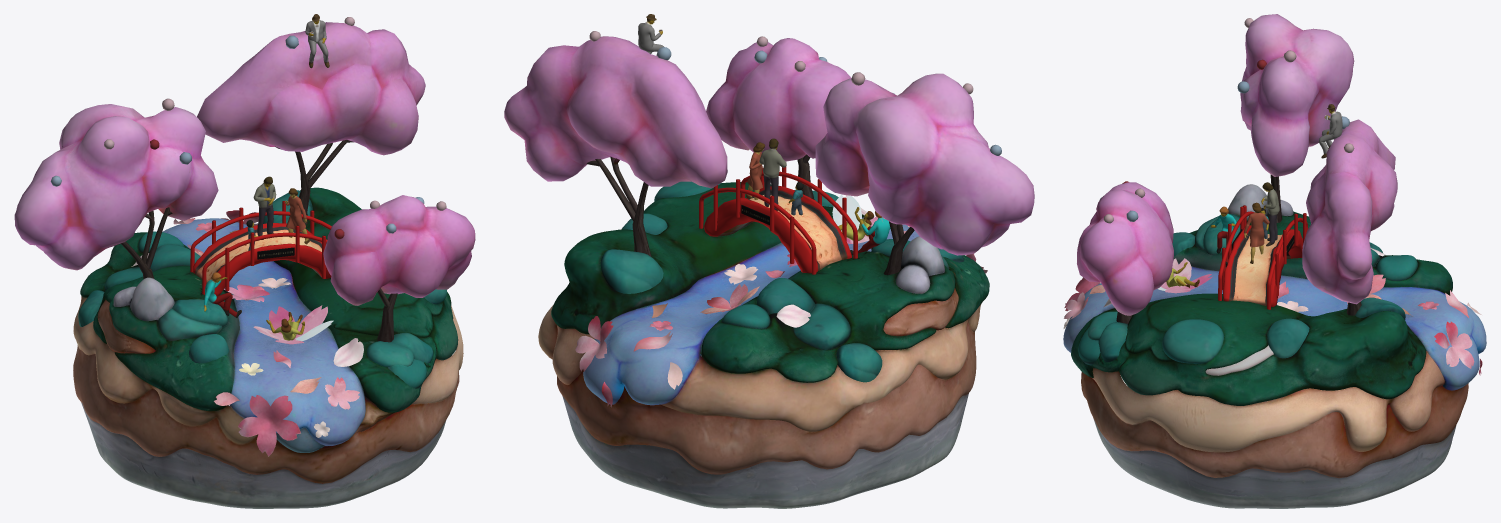
The model's file is rivermove1.glb.
3 views of the same model, side by side, from view 1: azimuth 30°, elevation 25°; view 2: azimuth 150°, elevation 25°; view 3: azimuth 270°, elevation 25° (orthographic). The views are drawn at different scales.
Parts seen in each view (by area): view 1: ground, sakuraA (×2), sakuraB, sakuraC (×2), river, bridge_base, Group2 (×2), rock1, polySurface106, polySurface101, polySurface124, polySurface122 (+11 smaller); view 2: ground, sakuraB, sakuraA, river, sakuraC, bridge_base, polySurface112, polySurface114, polySurface123, polySurface113, Group2 (×2), rock1 (+8 smaller); view 3: ground, sakuraB, sakuraA, sakuraC, river, bridge_base, polySurface115, polySurface110, Group2 (×2), sakuraAA, polySurface104, polySurface125 (+6 smaller).
Boxes of the visible parts, bbox=[...] form: ground: bbox=[73, 187, 463, 508]; sakuraA (×2): bbox=[197, 22, 425, 409]; sakuraB: bbox=[14, 104, 218, 270]; sakuraC (×2): bbox=[238, 195, 475, 456]; river: bbox=[162, 218, 365, 445]; bridge_base: bbox=[193, 223, 331, 295]; Group2 (×2): bbox=[204, 14, 329, 317]; rock1: bbox=[130, 277, 174, 321]; polySurface106: bbox=[158, 308, 222, 340]; polySurface101: bbox=[172, 299, 228, 326]; polySurface124: bbox=[367, 341, 413, 367]; polySurface122: bbox=[189, 334, 228, 363]; ground: bbox=[538, 182, 989, 508]; sakuraB: bbox=[815, 73, 1034, 255]; sakuraA: bbox=[504, 36, 727, 188]; river: bbox=[583, 217, 918, 405]; sakuraC: bbox=[706, 38, 851, 161]; bridge_base: bbox=[704, 186, 851, 273]; polySurface112: bbox=[600, 249, 663, 293]; polySurface114: bbox=[793, 303, 850, 349]; polySurface123: bbox=[836, 343, 882, 382]; polySurface113: bbox=[757, 278, 815, 314]; Group2 (×2): bbox=[638, 14, 890, 255]; rock1: bbox=[901, 236, 944, 275]; ground: bbox=[1071, 211, 1468, 508]; sakuraB: bbox=[1240, 14, 1354, 176]; sakuraA: bbox=[1302, 119, 1397, 304]; sakuraC: bbox=[1077, 182, 1173, 315]; river: bbox=[1063, 263, 1486, 390]; bridge_base: bbox=[1222, 225, 1302, 306]; polySurface115: bbox=[1162, 319, 1223, 363]; polySurface110: bbox=[1267, 318, 1309, 358]; Group2 (×2): bbox=[1210, 104, 1342, 266]; sakuraAA: bbox=[1446, 321, 1474, 368]; polySurface104: bbox=[1375, 255, 1418, 280]; polySurface125: bbox=[1098, 322, 1127, 362].
Bounding box in the file's own units: 0.1652 × 0.1377 × 0.139.
Materials: 1 (1 with a texture image).
